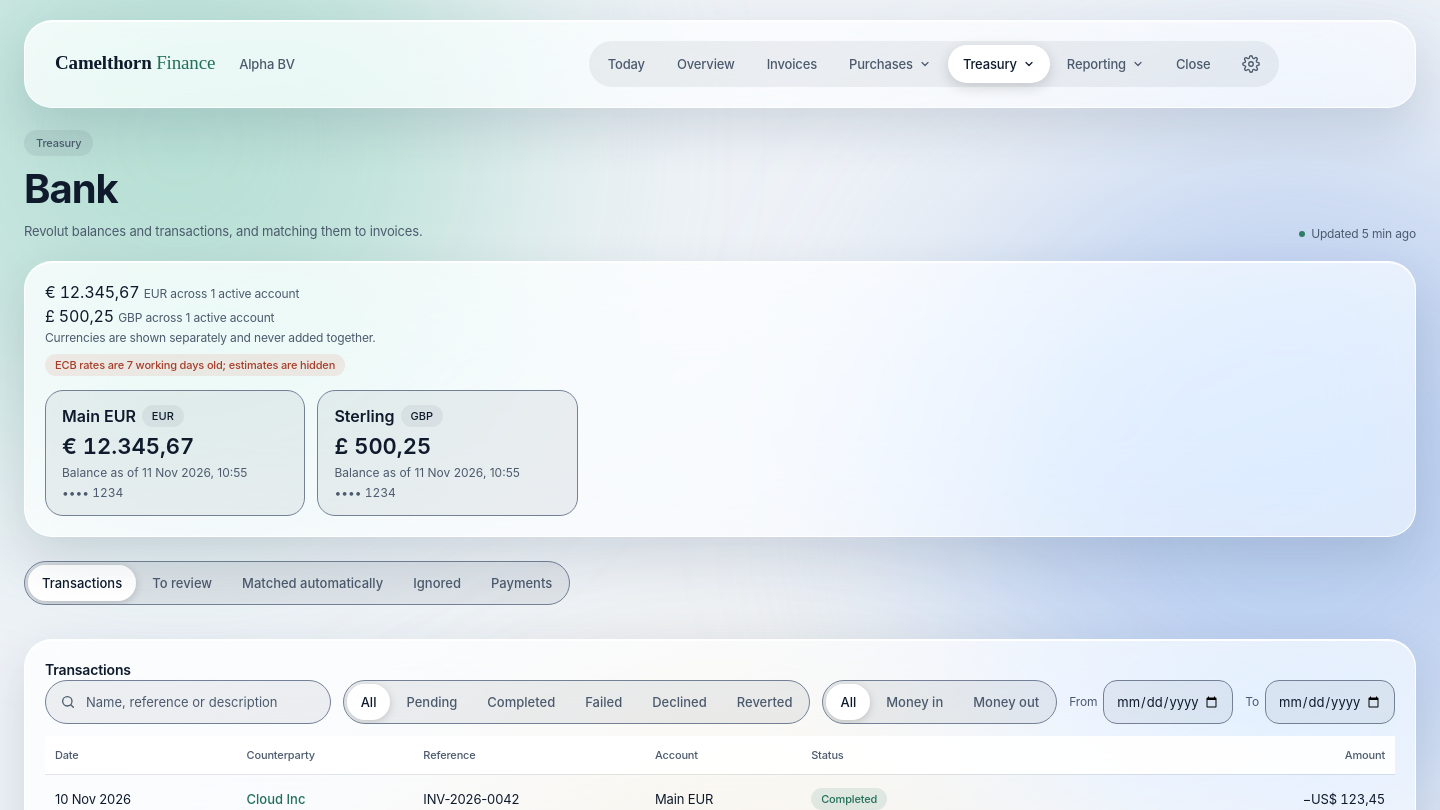
it: Bank page with old rates › hides every estimate past the cut-off: total, rows and the transaction sheet
expect the text "ECB rates are 7 working days old; estimates are hidden" is shown: met, box [45,354,345,376]
Click the button "Cloud Inc": coordinates (276, 799) [246,787,305,809]
(page scrolled)
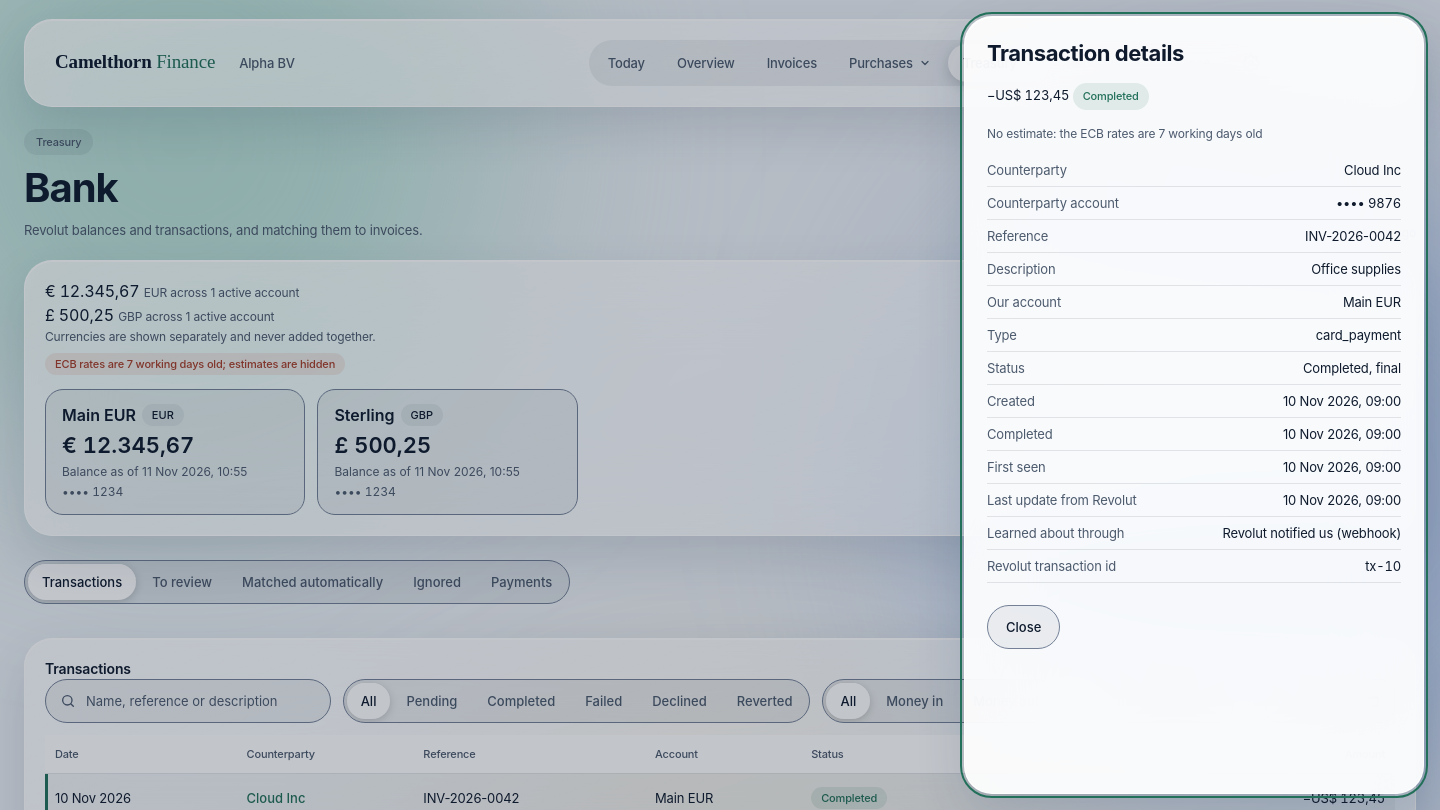
expect the text "No estimate: the ECB rates are 7 working days old" is shown: met, box [987,126,1262,142]
